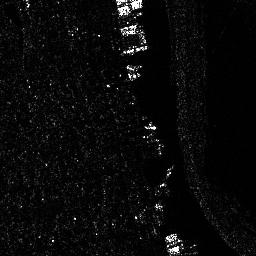ship: (122, 44, 149, 54)
